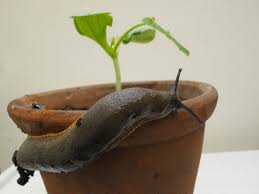slug: (19, 68, 188, 176)
